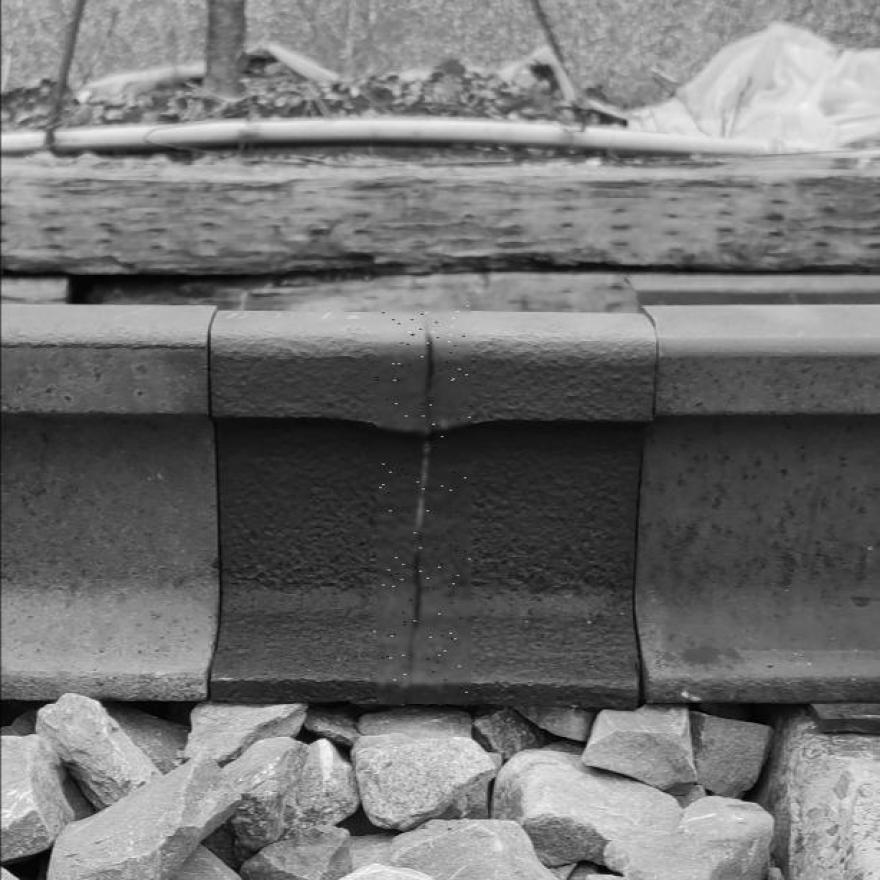railway-gap: (451, 295, 833, 722), (22, 303, 418, 713)
